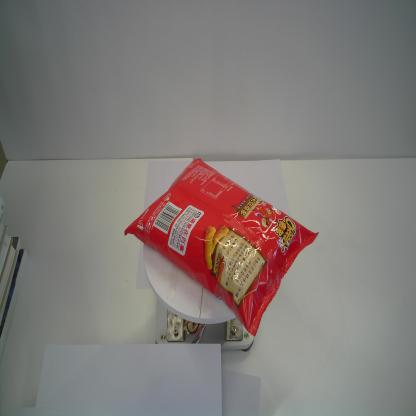Puffed Food: (123, 157, 325, 341)
